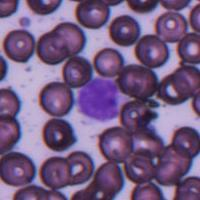L: (76, 76, 125, 123)
